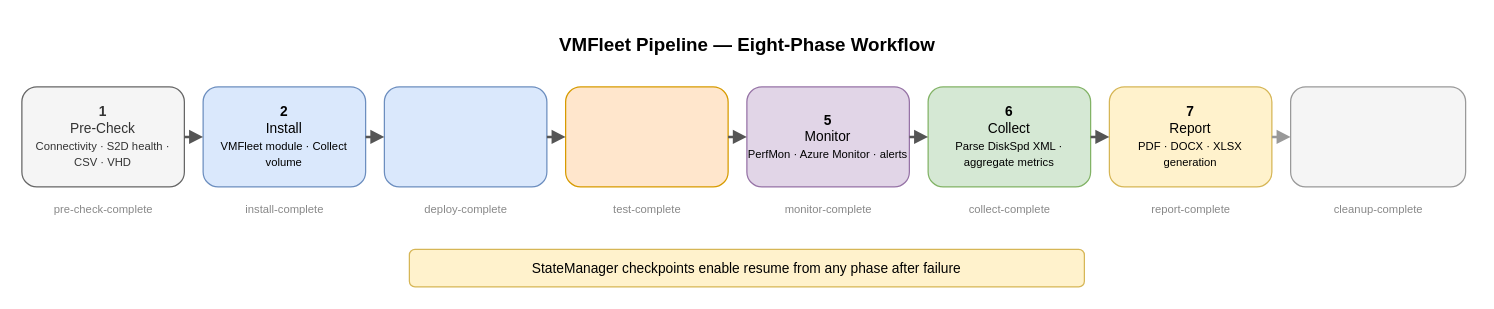
This 1494x309 diagram has some shape labels left out. Here are the shapes that lost their labels. From the top down, the box of each, then its label:
(383, 86, 547, 187): 3 Deploy Create fleet VMs · vCPU · memory
(564, 86, 728, 187): 4 Test Execute DiskSpd workload profiles
(1289, 86, 1466, 187): 8 Cleanup Remove VMs · volumes (optional)
